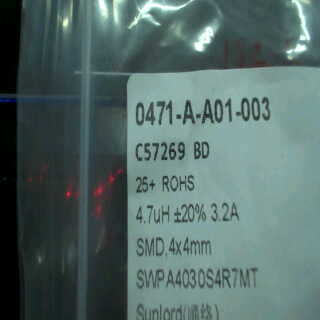4.7uH: (130, 198, 173, 228)
